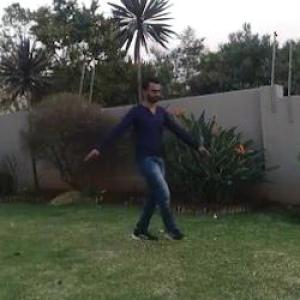land: (67, 54, 196, 264)
